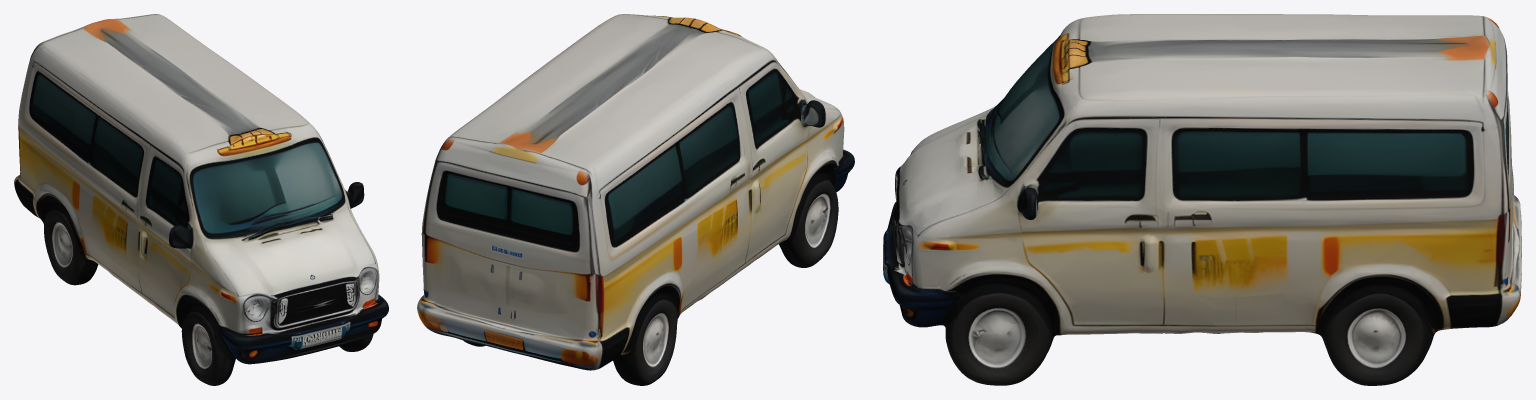
File: taxi-final.glb
3 views of the same model, side by side, from view 1: azimuth 30°, elevation 25°; view 2: azimuth 150°, elevation 25°; view 3: azimuth 270°, elevation 25° (orthographic). The views are drawn at different scales.
Visible parts, largest first — view 1: textured.obj; view 2: textured.obj; view 3: textured.obj.
Boxes of the visible parts, x1=… form: textured.obj: x1=14, y1=14, x2=388, y2=385; textured.obj: x1=417, y1=14, x2=854, y2=385; textured.obj: x1=883, y1=14, x2=1521, y2=385.
Bounding box in the file's own units: 0.9531 × 1.01 × 1.99.
1 material, 1 textured.
